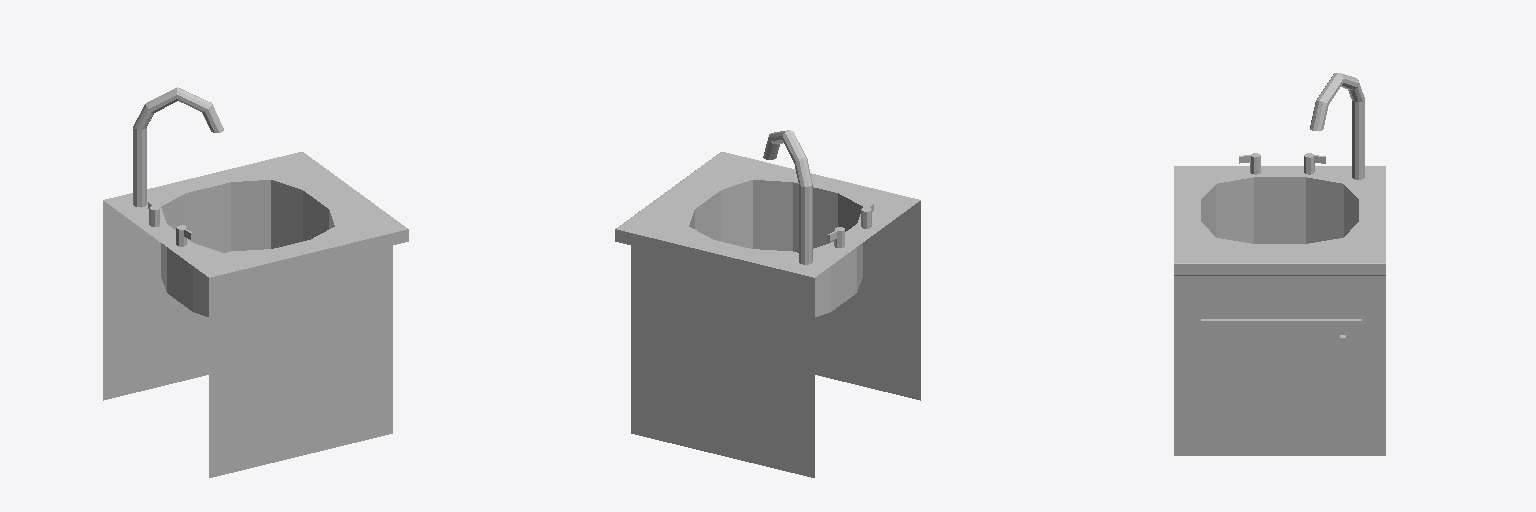
Rendered from Bathroom_Sink.obj.
3 renders of one model, left to right at view 1: azimuth 30°, elevation 25°; view 2: azimuth 150°, elevation 25°; view 3: azimuth 270°, elevation 25°, orthographic.
Parts seen in each view (by area): view 1: default; view 2: default; view 3: default.
Boxes of the visible parts, box(x1,y1,x2,y2) form: default: box(103, 87, 408, 477); default: box(615, 130, 920, 477); default: box(1174, 73, 1385, 455).
Size of the model in its own units: 104 by 159 by 96.